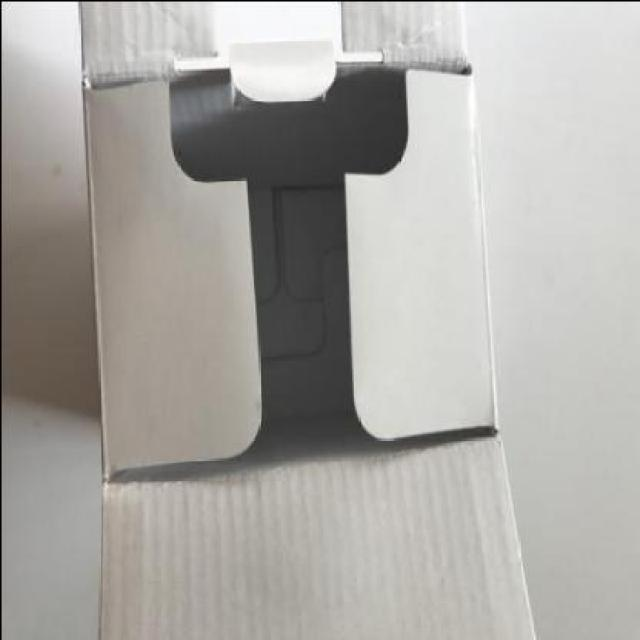CARDBOARD: (81, 1, 537, 640)
